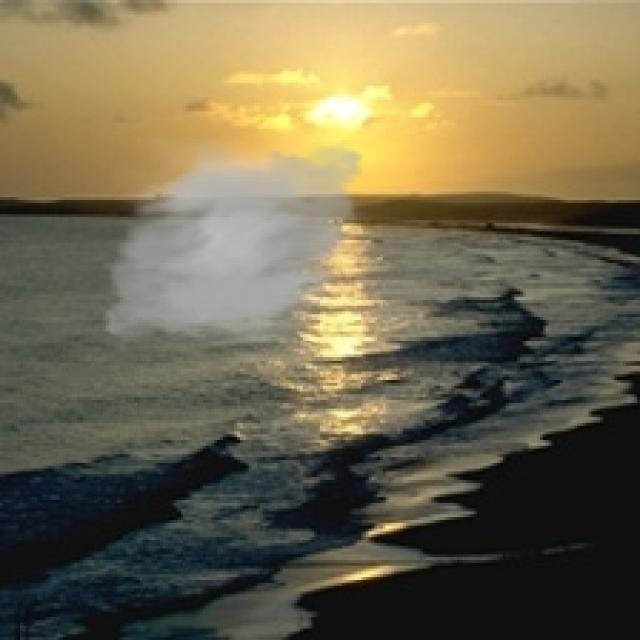Smoke: (92, 128, 374, 363)
